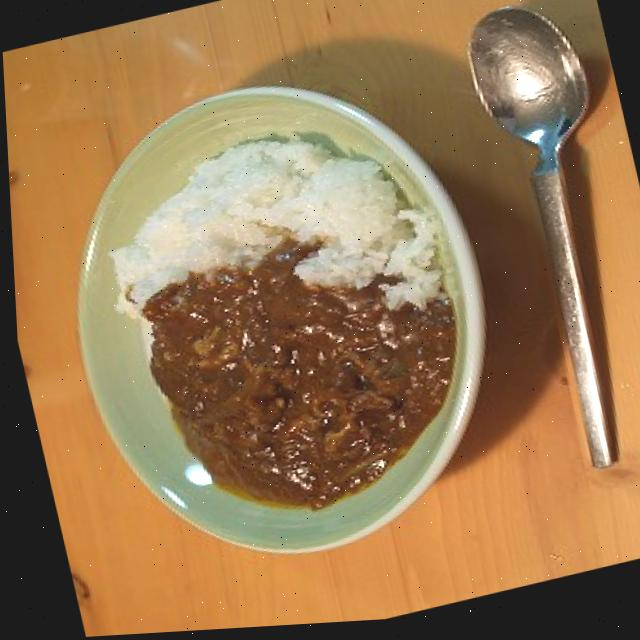牛肉菜式: (20, 43, 527, 598)
